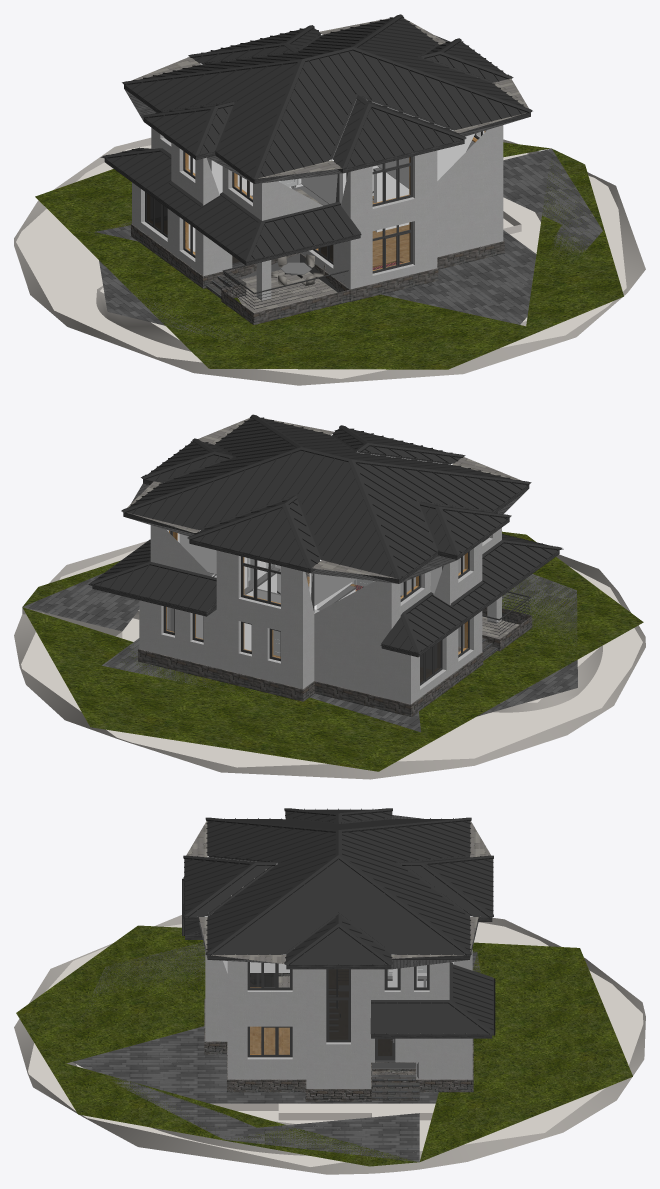
File: rural-house.glb
3 renders of one model, top to bottom at view 1: azimuth 30°, elevation 25°; view 2: azimuth 150°, elevation 25°; view 3: azimuth 270°, elevation 25°, orthographic.
Visible parts, largest first — view 1: object 30, object 15, object 33, 10-001-010_10-001-010_0, object 2, object 11, object 5, object 26, object 4, object 7, object 6, object 9 (+4 smaller); view 2: object 30, object 15, object 33, 10-001-010_10-001-010_0, object 2, object 11, object 26, object 4, object 5, object 7, object 9, PEN_MATERIAL4 (+2 smaller); view 3: object 15, object 30, 10-001-010_10-001-010_0, object 33, object 2, object 11, object 7, object 32, object 5, object 4, object 6, object 8 (+2 smaller).
Part boxes in pixels (left/top/right/bottom): object 30: left=100, top=14, right=532, bottom=263; object 15: left=35, top=142, right=623, bottom=369; object 33: left=132, top=125, right=503, bottom=300; 10-001-010_10-001-010_0: left=14, top=137, right=645, bottom=385; object 2: left=94, top=148, right=602, bottom=356; object 11: left=131, top=223, right=504, bottom=324; object 5: left=132, top=18, right=528, bottom=312; object 26: left=188, top=130, right=486, bottom=251; object 4: left=104, top=85, right=530, bottom=265; object 7: left=145, top=131, right=482, bottom=273; object 6: left=194, top=196, right=409, bottom=267; object 9: left=124, top=35, right=527, bottom=183; object 30: left=88, top=414, right=563, bottom=654; object 15: left=22, top=531, right=643, bottom=771; object 33: left=139, top=525, right=501, bottom=704; 10-001-010_10-001-010_0: left=14, top=541, right=645, bottom=779; object 2: left=23, top=573, right=577, bottom=732; object 11: left=138, top=572, right=532, bottom=716; object 26: left=167, top=530, right=464, bottom=650; object 4: left=92, top=479, right=559, bottom=657; object 5: left=127, top=418, right=521, bottom=639; object 7: left=163, top=531, right=489, bottom=685; object 9: left=126, top=483, right=527, bottom=583; PEN_MATERIAL4: left=170, top=566, right=496, bottom=631; object 15: left=16, top=925, right=632, bottom=1166; object 30: left=182, top=808, right=495, bottom=1035; 10-001-010_10-001-010_0: left=14, top=869, right=645, bottom=1174; object 33: left=205, top=949, right=472, bottom=1088; object 2: left=72, top=942, right=480, bottom=1162; object 11: left=204, top=973, right=473, bottom=1101; object 7: left=247, top=962, right=429, bottom=1057; object 32: left=250, top=969, right=392, bottom=1056; object 5: left=186, top=821, right=490, bottom=1033; object 4: left=185, top=917, right=492, bottom=1038; object 6: left=250, top=1026, right=289, bottom=1054; object 8: left=372, top=1077, right=419, bottom=1098.
Size of the model in its own units: 28.41 by 9.7 by 28.14.
Materials: 30 (12 with a texture image).
